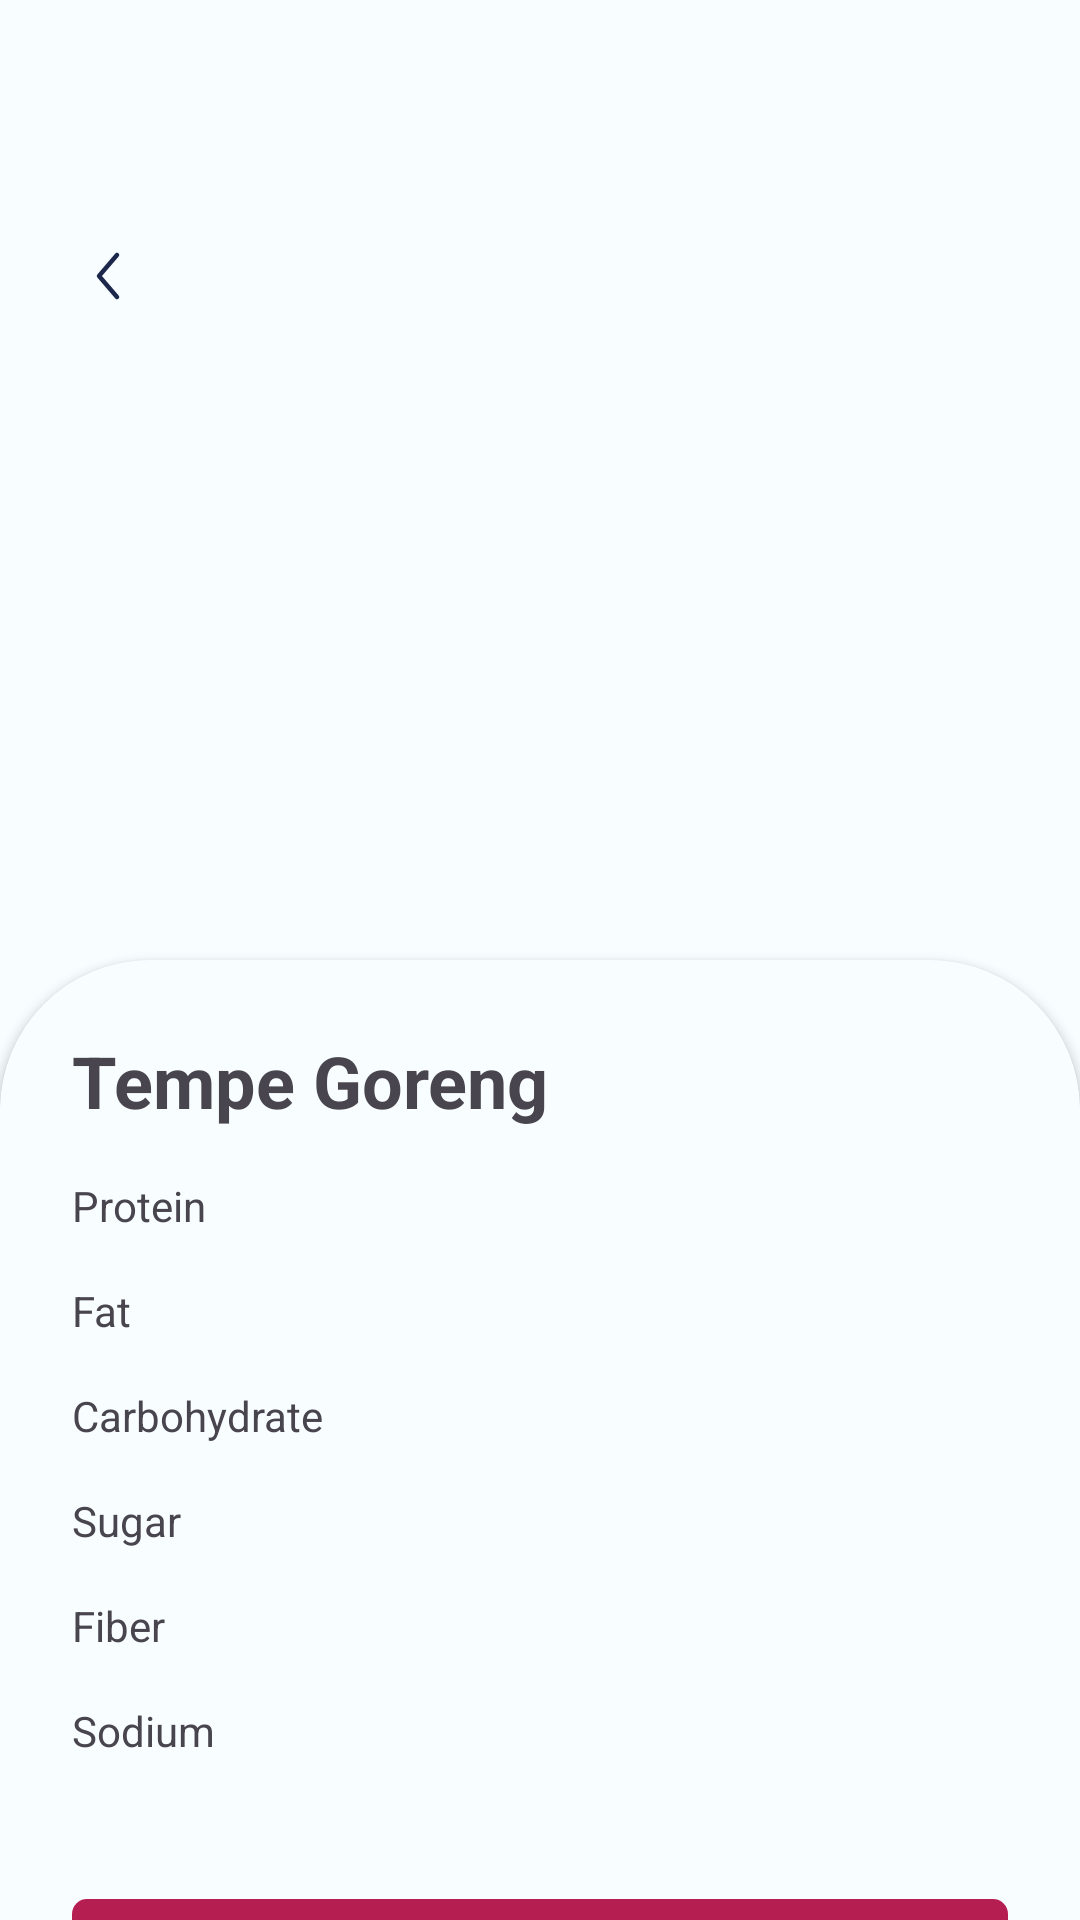

Icon bounding boxes for this 1080px×1920px phone screenshot, format (x1, y1, x2, y2):
Back Button: (96, 252, 120, 300)
